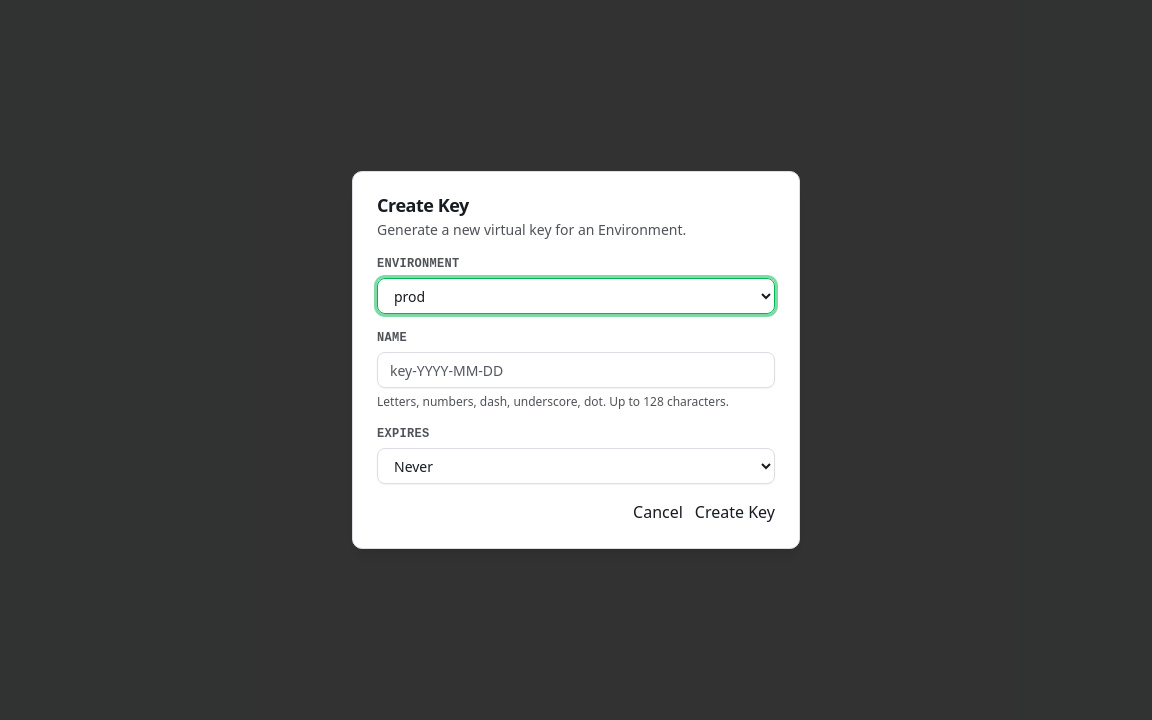
Test: CreateKeyModal — server error routing › a rejection with a detail shows it as the form error (form stays open)
The width and height of the screenshot is (1152, 720).
In the field labelled "name": (576, 370) [377, 352, 775, 388], type "my-key"
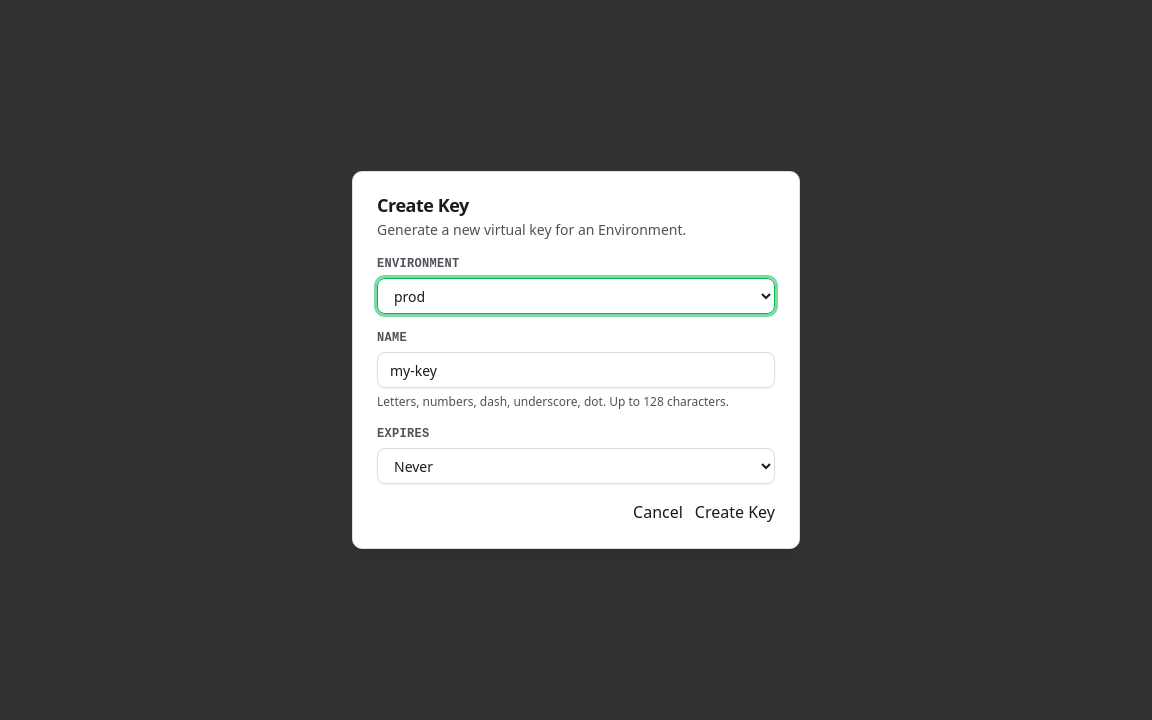
Click the button "Create Key": click(735, 512) [695, 500, 775, 524]
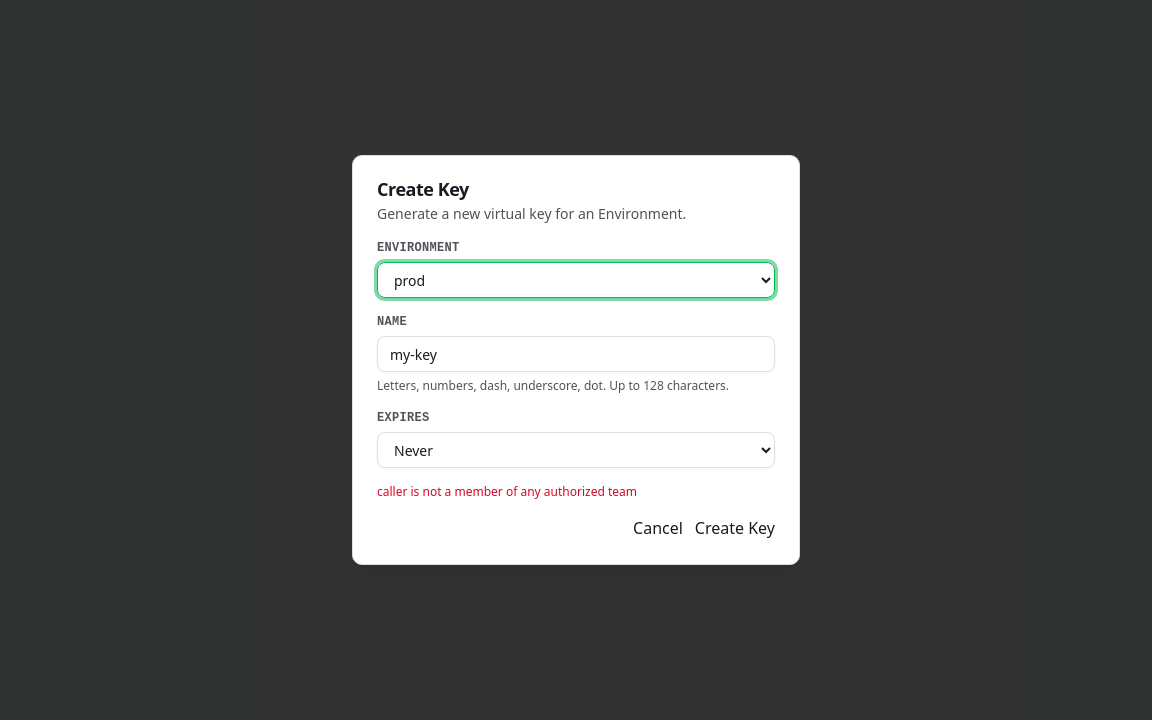
Expected: the button "Create Key" is shown, [695, 516, 775, 540]
Now the text "caller is not a member of any authorized team" is shown, box [377, 483, 637, 500]
